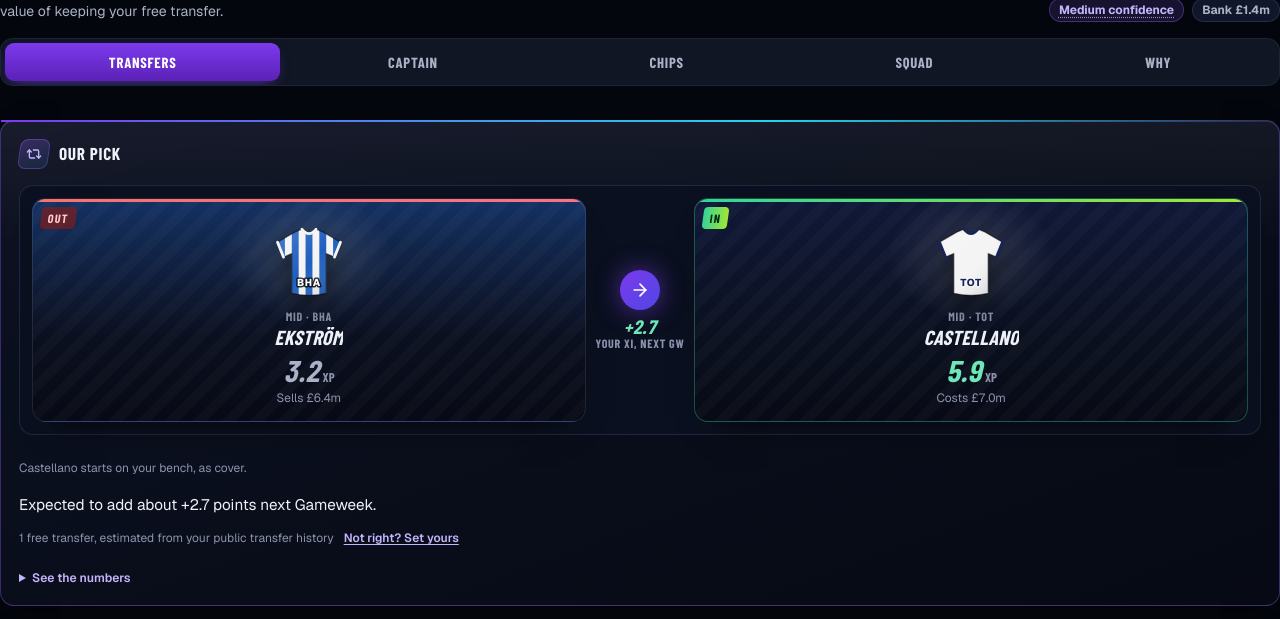
Test: the captain tab weighs the choice against your mini-league
Click the tab "Captain" at (413, 62), box [284,43,542,81]
(page scrolled)
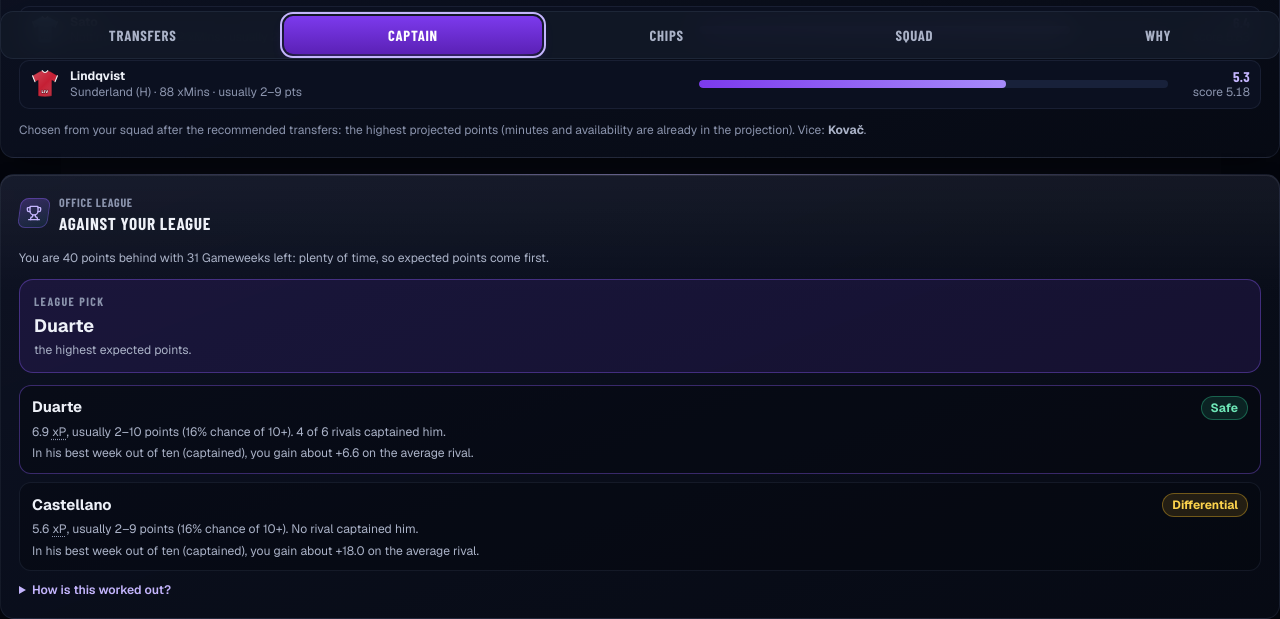
Check: the text "plenty of time, so expected points come first" is shown, box [19,250,549,266]
Check: the text "Safe" is shown, box [1201,396,1248,420]
Check: the text "Differential" is shown, box [1162,493,1248,517]
